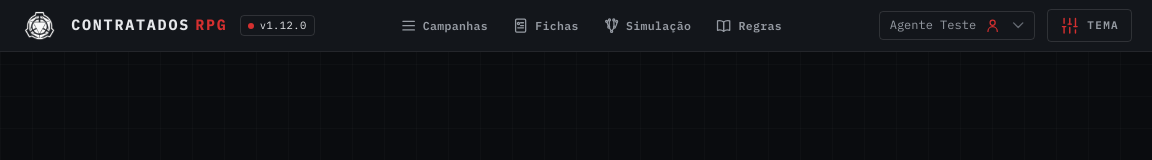
Layout — chrome da topbar (ui-21) › Escape fecha o dropdown de perfil e devolve o foco ao gatilho
Click the button with class "topbar__perfil-gatilho" at [957, 26], box [879,11,1035,40]
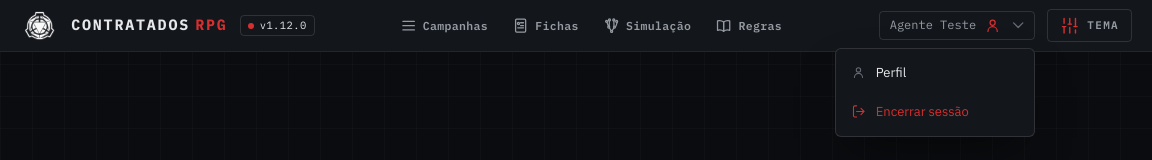
Expected: the menu with class "topbar__perfil-menu" is shown, [835,48,1035,137]
Press Escape in the element with class "topbar__perfil", box [879,11,1035,40]
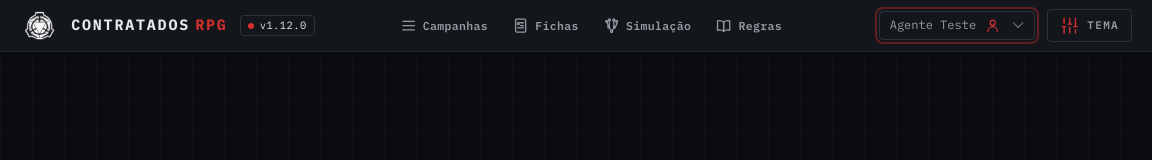
Expected: the menu with class "topbar__perfil-menu" is gone
